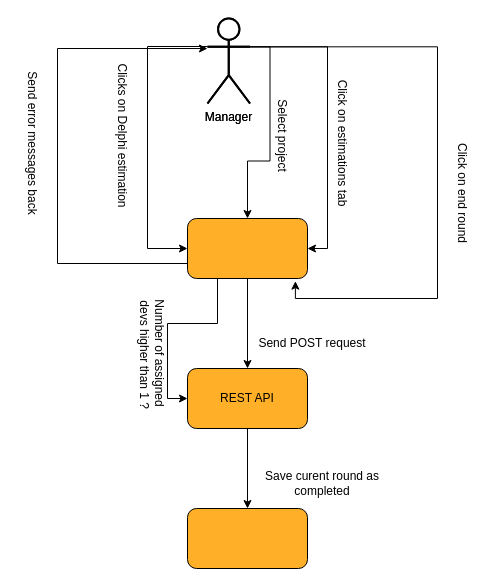
Some shapes in this 494 by 586 pixel diagram are drawn without their labels. The centre of each missing label's shape, as x and y in pixels:
Database: the point at 247,538
Frontend: the point at 247,248
